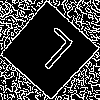L: (24, 25, 76, 79)
